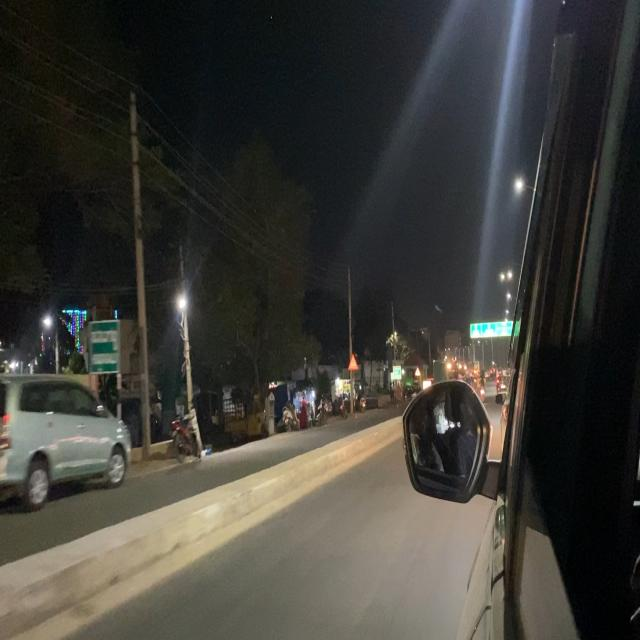bien_cam: (348, 352, 358, 372)
